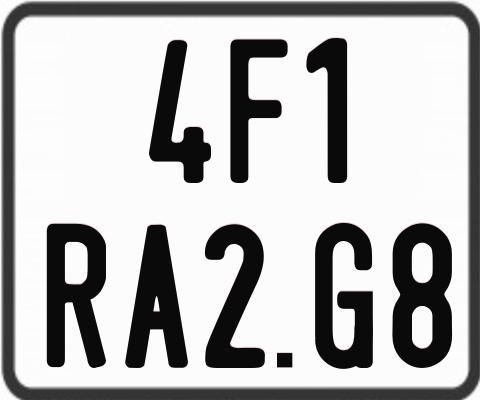1: (305, 38, 351, 186)
2: (203, 224, 266, 370)
4: (146, 40, 213, 183)
8: (390, 220, 455, 369)
A: (122, 222, 185, 369)
F: (229, 39, 292, 187)
G: (315, 223, 377, 374)
R: (44, 224, 104, 369)
